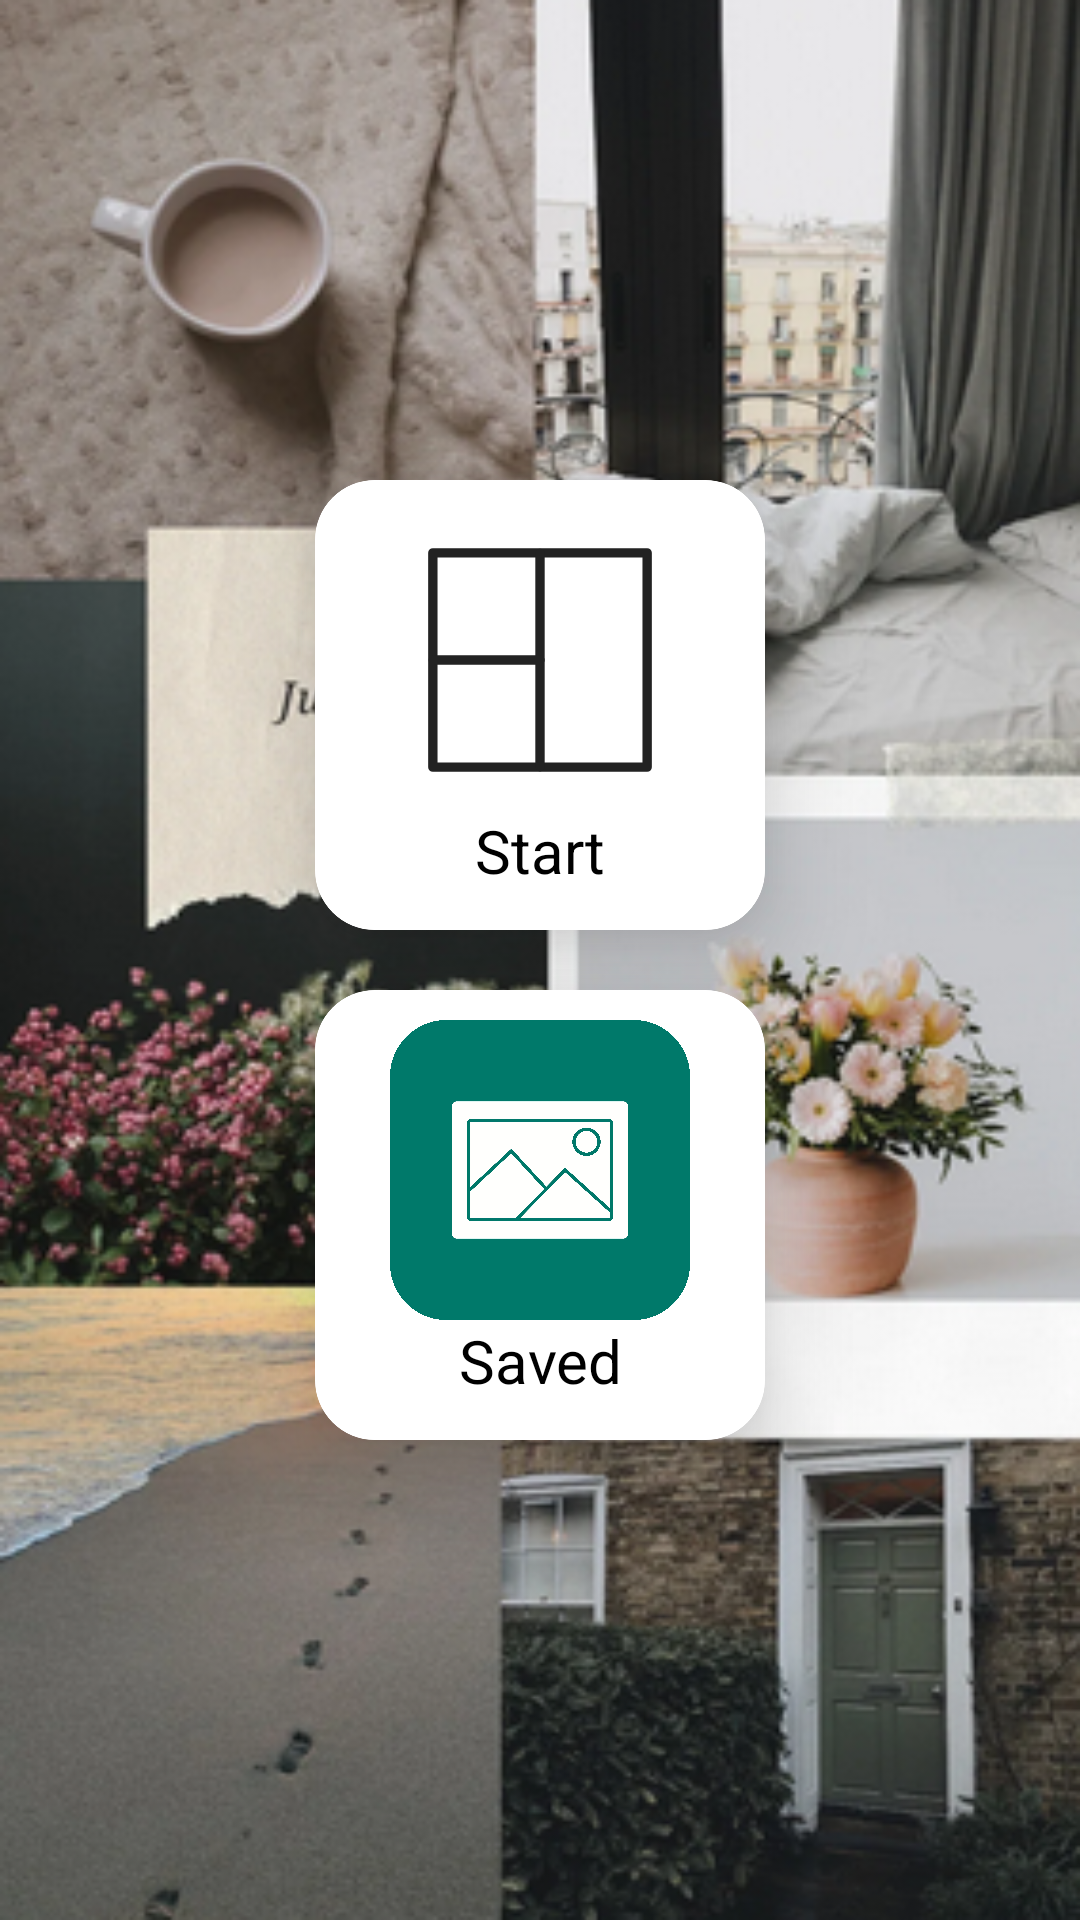

Icon bounding boxes for this 1080*1920 phone screenshot, format (x1, y1, x2, y2):
collage: (428, 548, 652, 772)
gallery: (390, 1020, 690, 1320)
